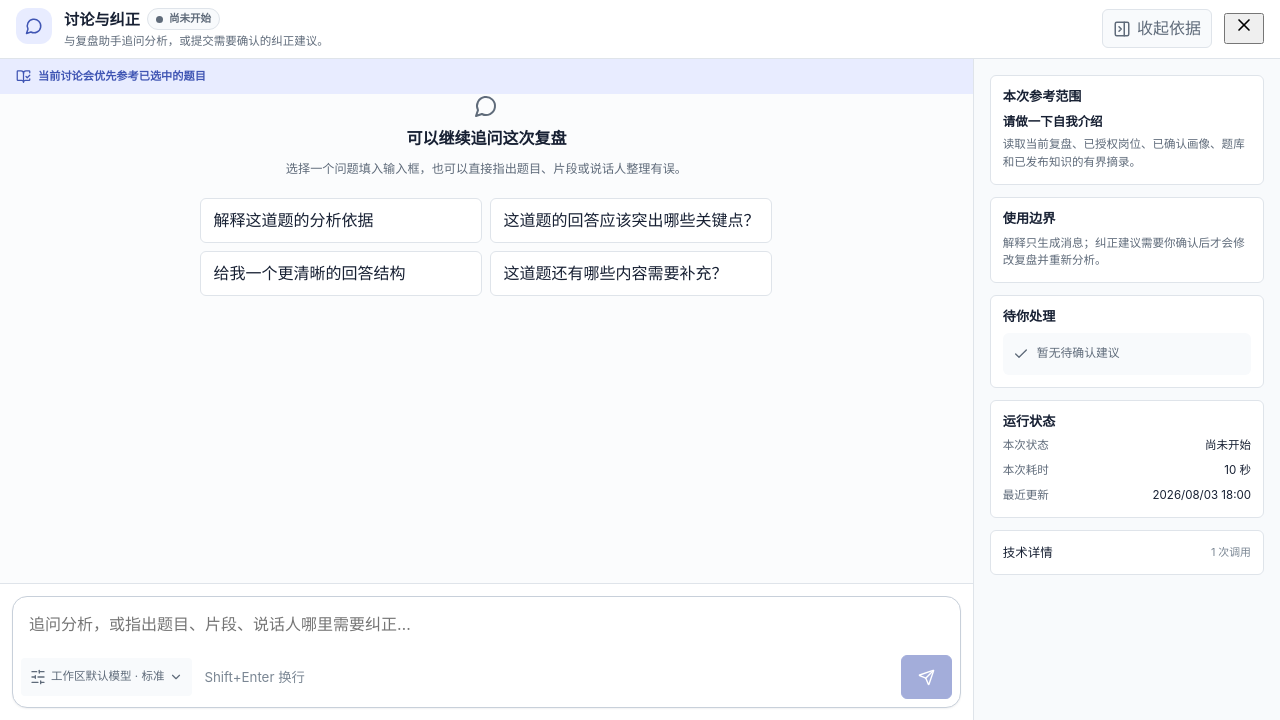
Test: RetrospectiveConversation › fills rather than sends a starter question
Click the button "解释这道题的分析依据". click: (341, 221)
box: [200,198,482,243]
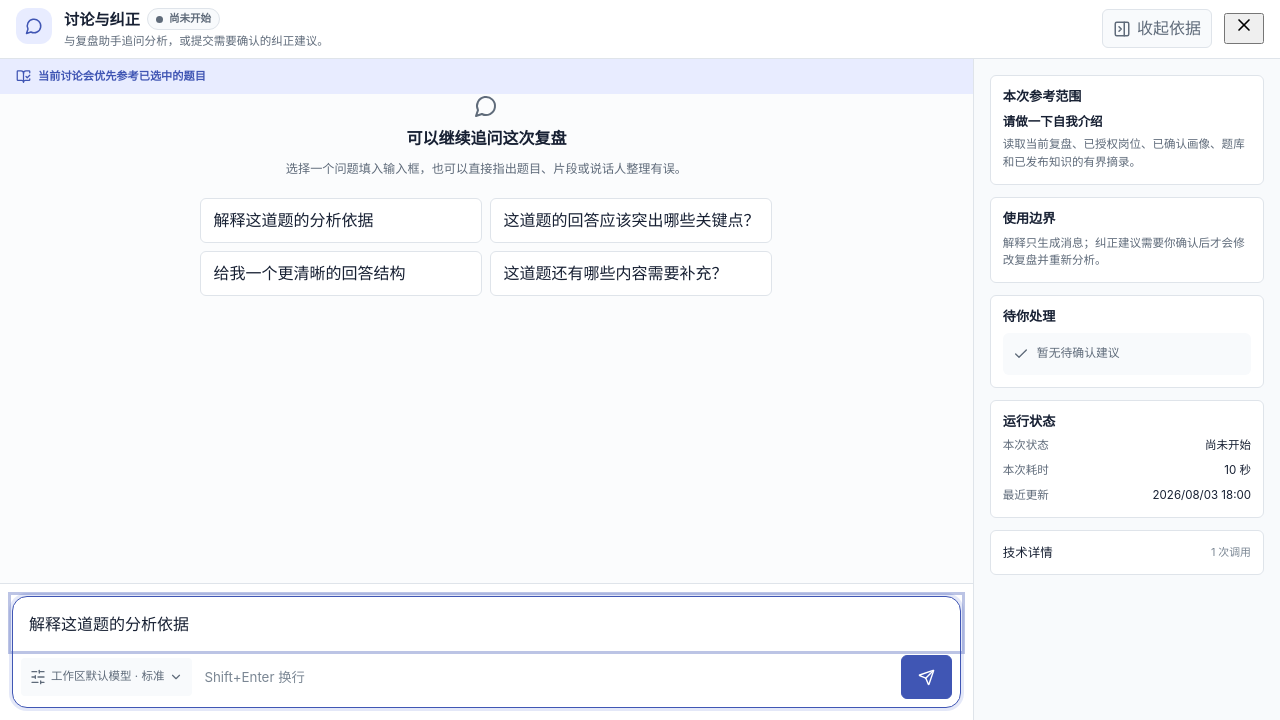
Check: the text box named "发送给复盘助手" holds "解释这道题的分析依据", box [13,597,960,649]
